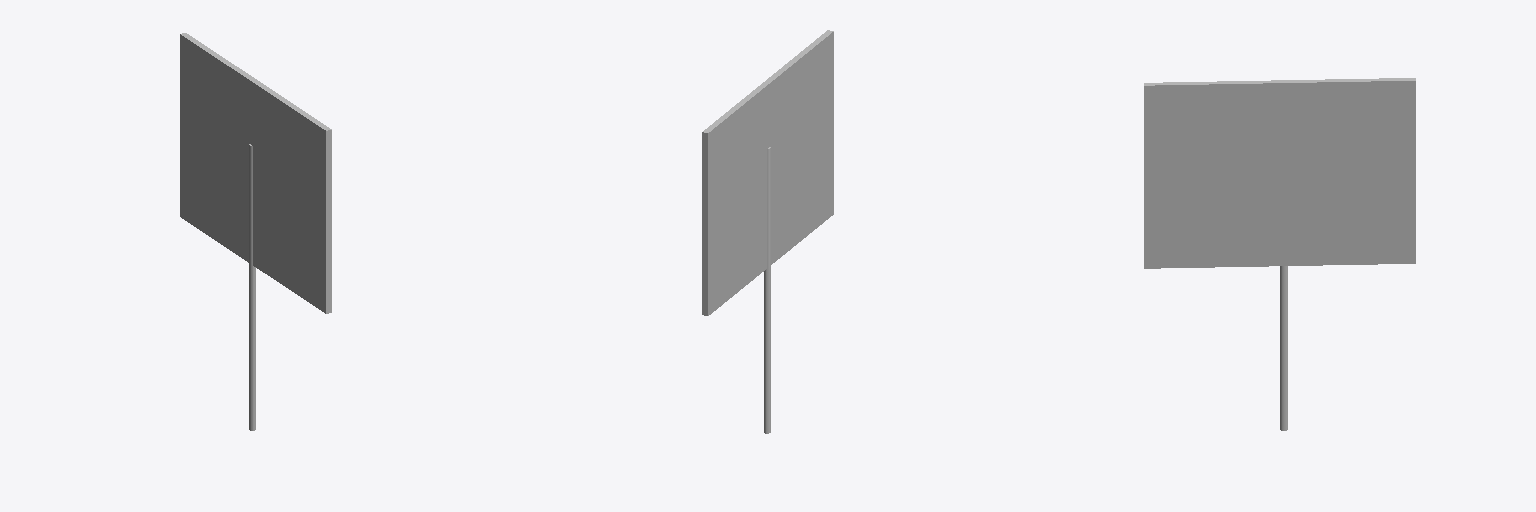
The model's file is board_8.obj.
3 views of the same model, side by side, from view 1: azimuth 30°, elevation 25°; view 2: azimuth 150°, elevation 25°; view 3: azimuth 270°, elevation 25° (orthographic).
Parts seen in each view (by area): view 1: Cube.012_Cube.013, Cylinder.012; view 2: Cube.012_Cube.013, Cylinder.012; view 3: Cube.012_Cube.013, Cylinder.012.
Part boxes in pixels (x1,y1,x2,y2): Cube.012_Cube.013: (180, 33, 331, 313); Cylinder.012: (249, 144, 255, 430); Cube.012_Cube.013: (702, 30, 833, 315); Cylinder.012: (764, 147, 770, 433); Cube.012_Cube.013: (1144, 78, 1415, 268); Cylinder.012: (1280, 266, 1287, 430).
Size of the model in its own units: 0.0207 by 0.4273 by 0.3023.